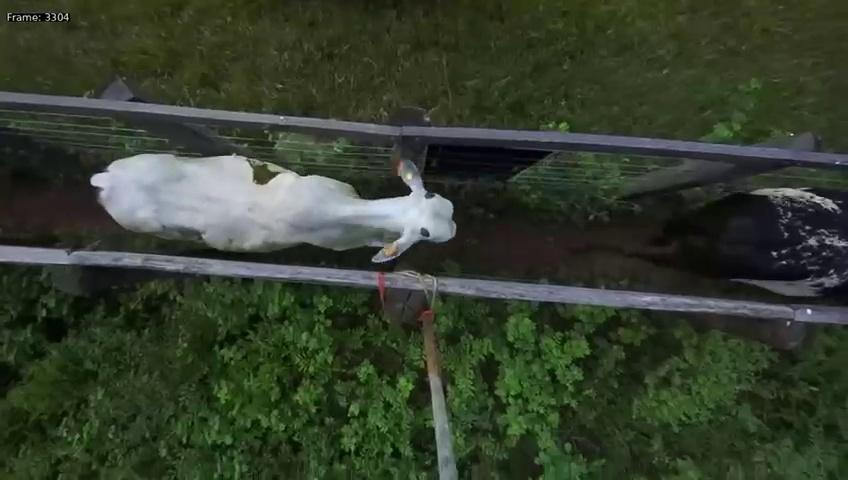cattle: (81, 142, 459, 272)
